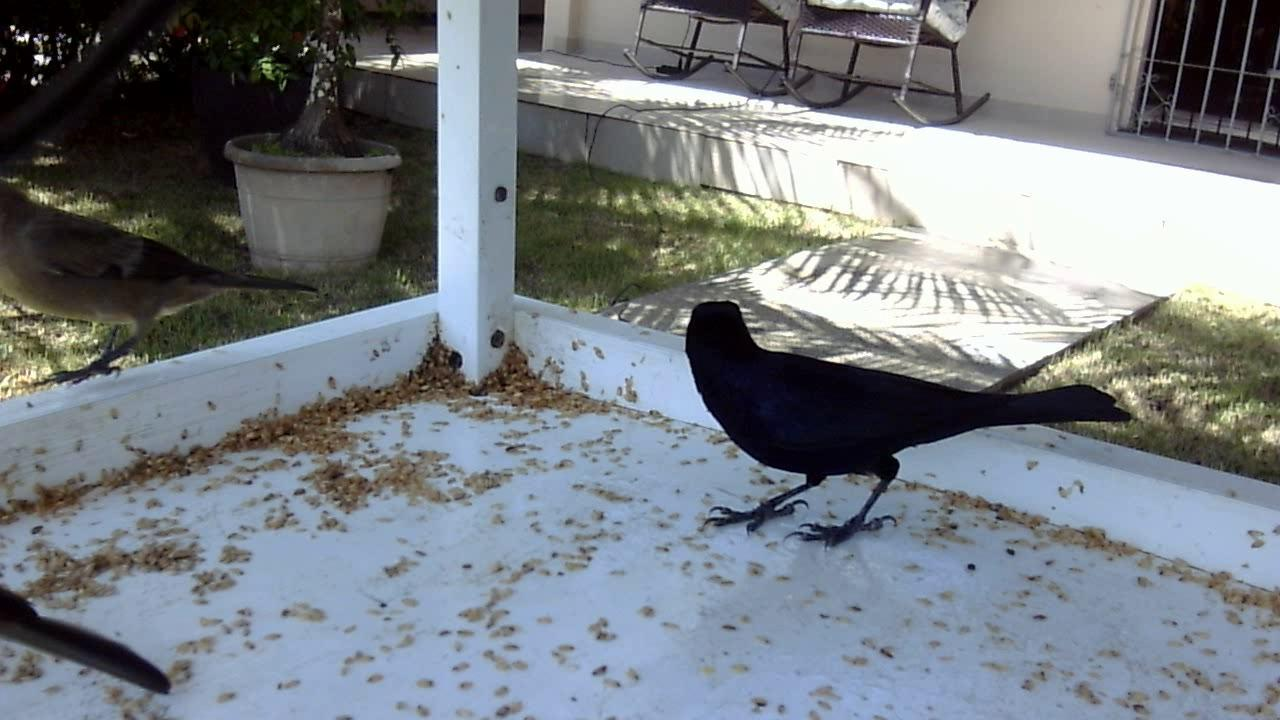chupim: (657, 282, 1149, 560)
sanhaco_do_coqueiro: (7, 165, 331, 404)
